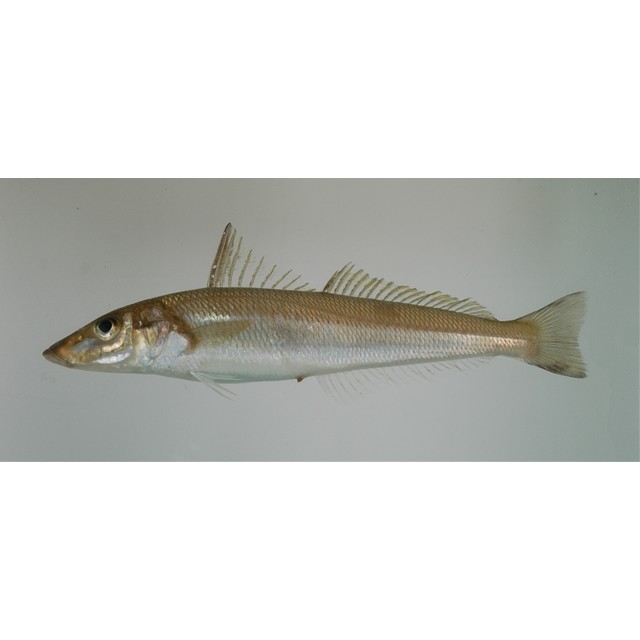kiss: (35, 276, 598, 402)
